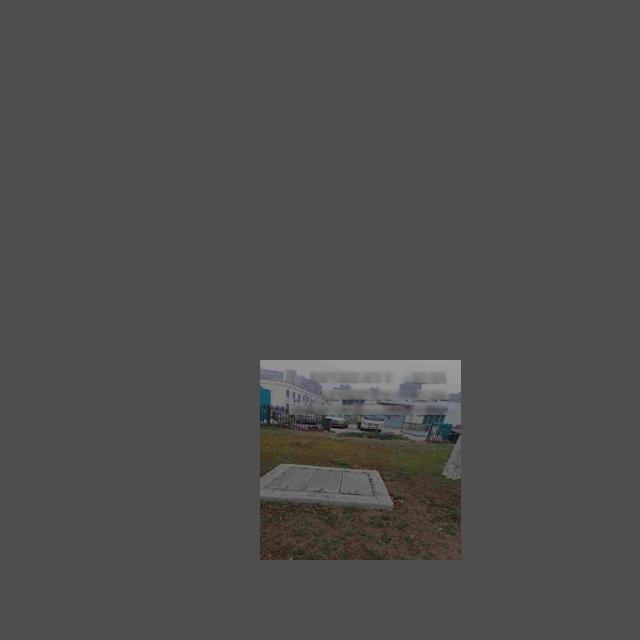good: (261, 466, 379, 497)
